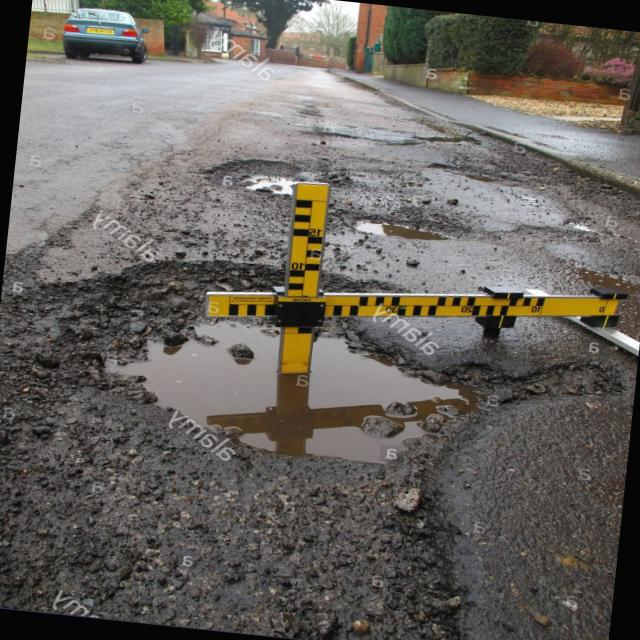bad-road: (0, 234, 521, 640), (196, 147, 308, 203), (346, 212, 452, 247)
